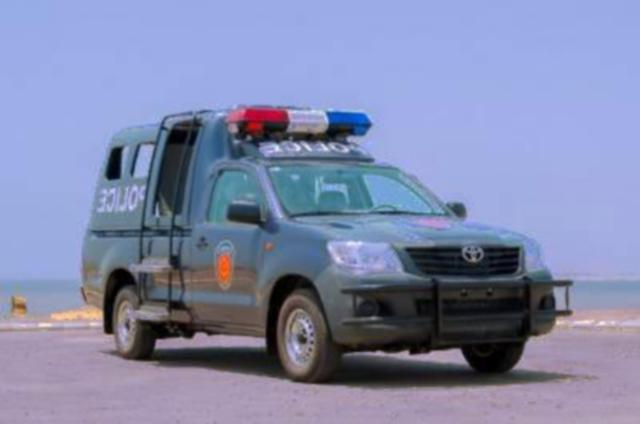police_car: (80, 104, 560, 387)
